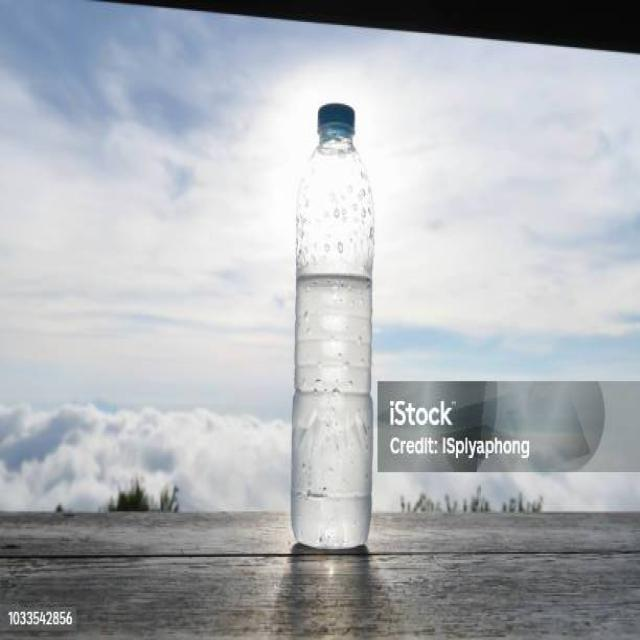bottle: (289, 109, 377, 558)
